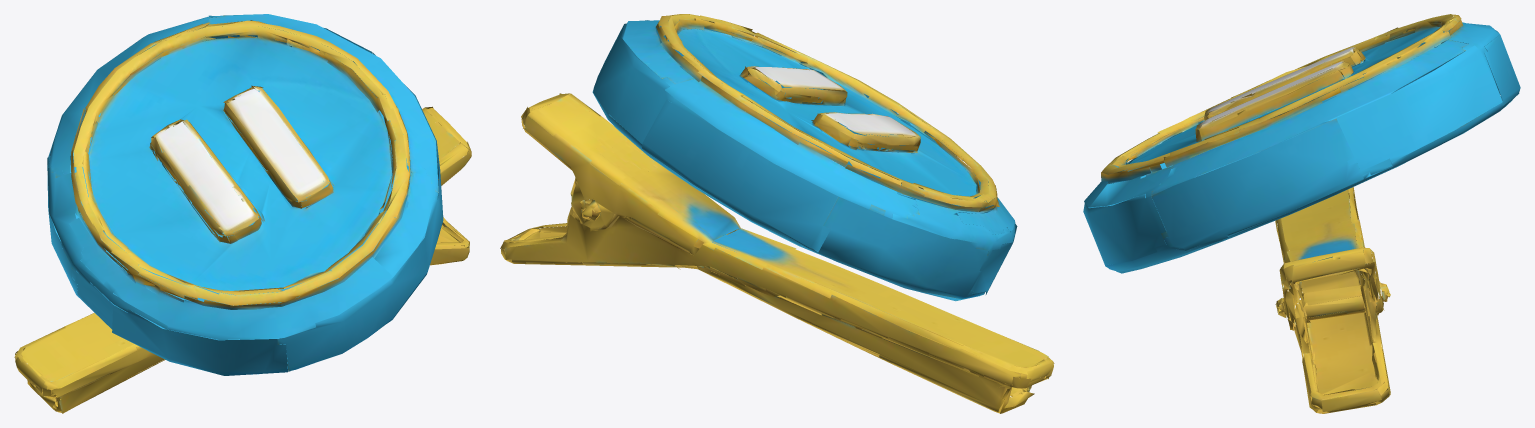
The model's file is gear_freeze_hair.glb.
3 views of the same model, side by side, from view 1: azimuth 30°, elevation 25°; view 2: azimuth 150°, elevation 25°; view 3: azimuth 270°, elevation 25° (orthographic). The views are drawn at different scales.
Visible parts, largest first — view 1: gear_freeze_hair; view 2: gear_freeze_hair; view 3: gear_freeze_hair.
Boxes of the visible parts, left/top/right/bottom form: gear_freeze_hair: left=14, top=14, right=471, bottom=413; gear_freeze_hair: left=500, top=14, right=1054, bottom=413; gear_freeze_hair: left=1083, top=14, right=1520, bottom=413.
Bounding box in the file's own units: 0.8086 × 0.5018 × 0.6097.
Materials: 1 (1 with a texture image).
